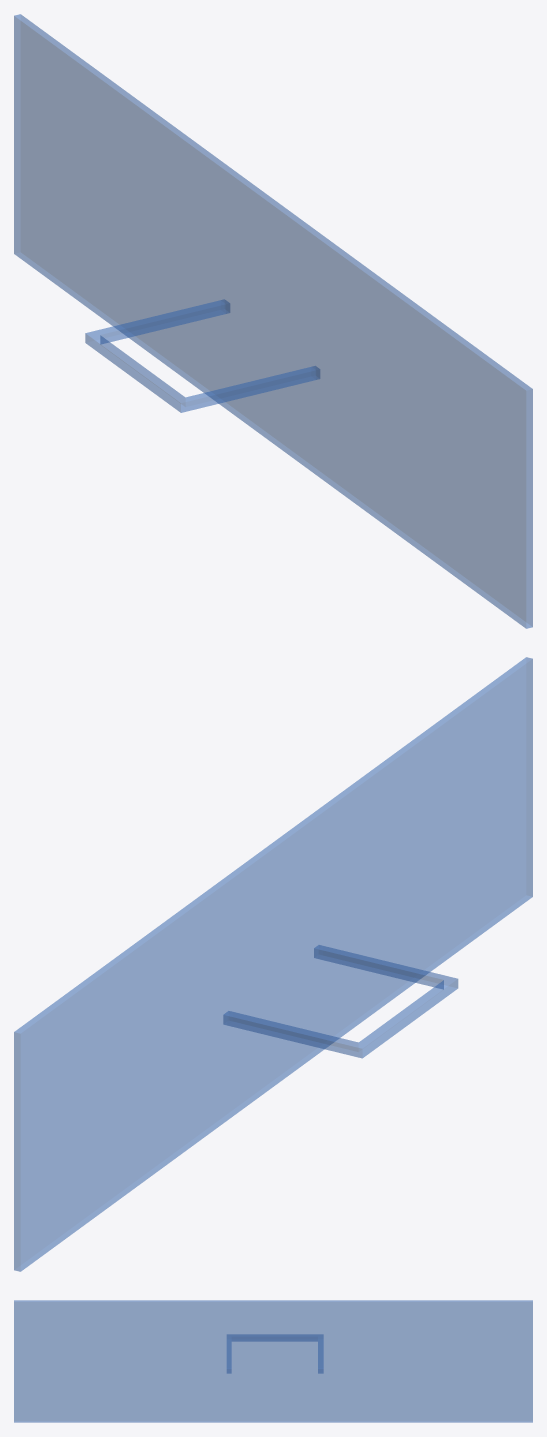
The model's file is shield.obj.
3 renders of one model, top to bottom at view 1: azimuth 30°, elevation 25°; view 2: azimuth 150°, elevation 25°; view 3: azimuth 270°, elevation 25°, orthographic. The views are drawn at different scales.
Parts seen in each view (by area): view 1: Shield; view 2: Shield; view 3: Shield.
Boxes of the visible parts, left/top/right/bottom form: Shield: left=14, top=14, right=532, bottom=628; Shield: left=14, top=657, right=532, bottom=1271; Shield: left=14, top=1300, right=532, bottom=1422.
Bounding box in the file's own units: 4.26 × 6.83 × 26.63.
